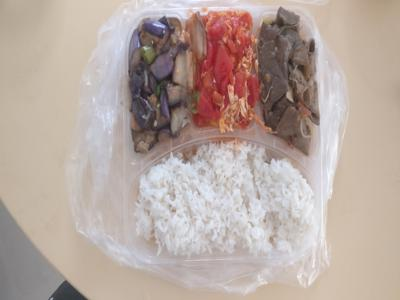jdxhs: (192, 6, 265, 133)
rice: (130, 147, 341, 260)
sqz: (129, 9, 194, 149)
